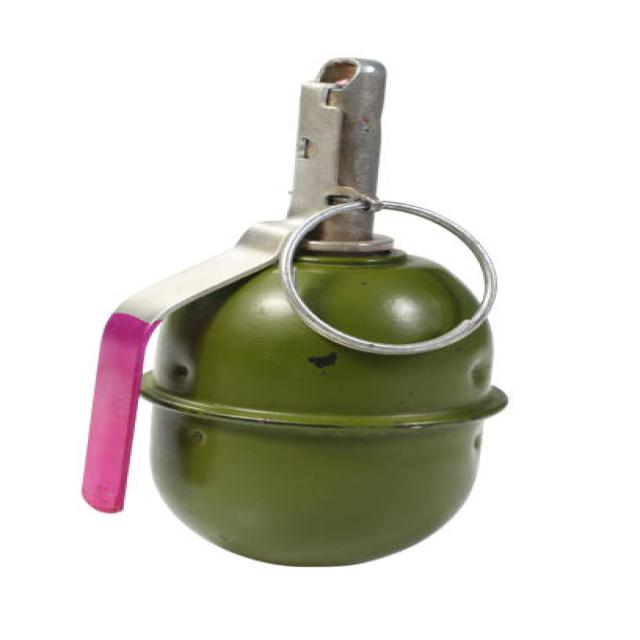grenade: (70, 46, 528, 578)
